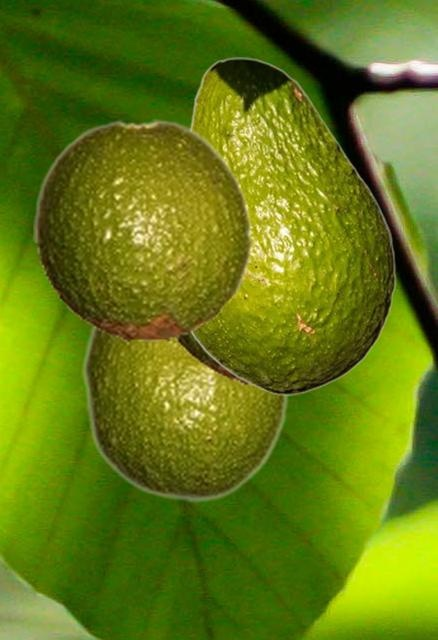avocado: (187, 57, 395, 394), (33, 119, 254, 342), (81, 325, 289, 503), (172, 334, 249, 385)
